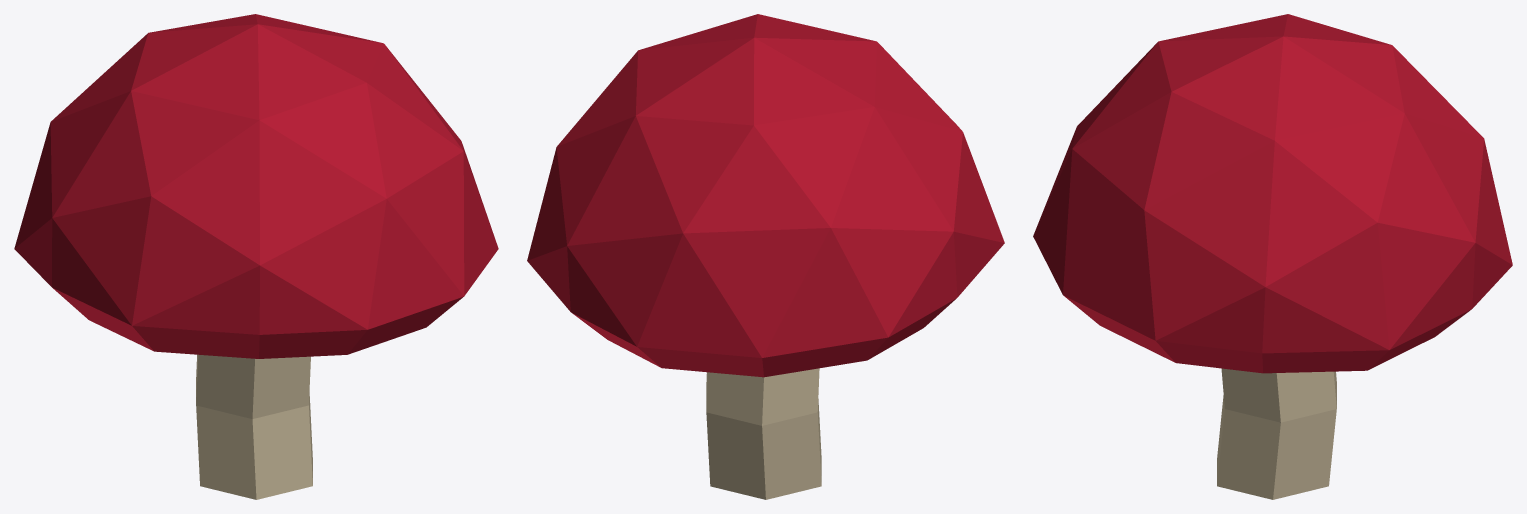
Rendered from Mushroom.fbx.
3 views of the same model, side by side, from view 1: azimuth 30°, elevation 25°; view 2: azimuth 150°, elevation 25°; view 3: azimuth 270°, elevation 25° (orthographic).
Visible parts, largest first — view 1: Mushroom; view 2: Mushroom; view 3: Mushroom.
Boxes of the visible parts, box(x1,y1,x2,y2) form: Mushroom: box(14, 14, 498, 499); Mushroom: box(527, 14, 1004, 499); Mushroom: box(1033, 14, 1512, 499).
Size of the model in its own units: 1.04 by 1.09 by 1.08.
